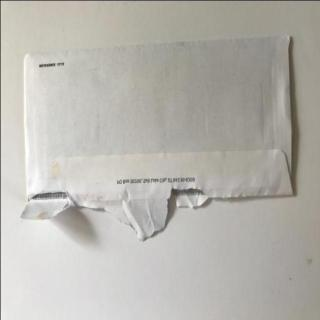Anorganik: (18, 28, 298, 240)
